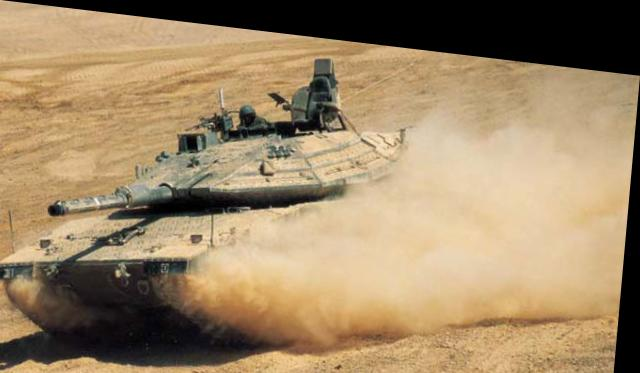other: (215, 83, 270, 131)
tank: (0, 56, 475, 372)
